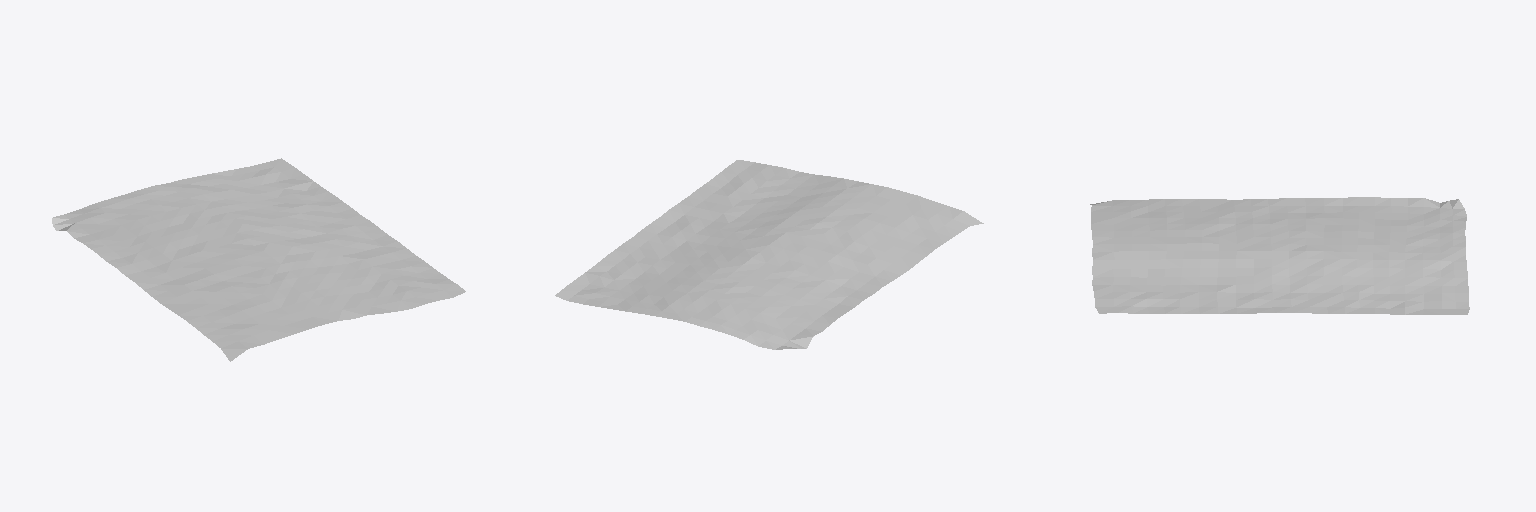
The model's file is cobblestone.obj.
3 renders of one model, left to right at view 1: azimuth 30°, elevation 25°; view 2: azimuth 150°, elevation 25°; view 3: azimuth 270°, elevation 25°, orthographic.
Visible parts, largest first — view 1: Cobblestone; view 2: Cobblestone; view 3: Cobblestone.
Boxes of the visible parts, box(x1,y1,x2,y2) form: Cobblestone: box(52, 158, 465, 361); Cobblestone: box(555, 160, 983, 349); Cobblestone: box(1090, 197, 1469, 314).
Bounding box in the file's own units: 7.34 × 0.4323 × 9.99.